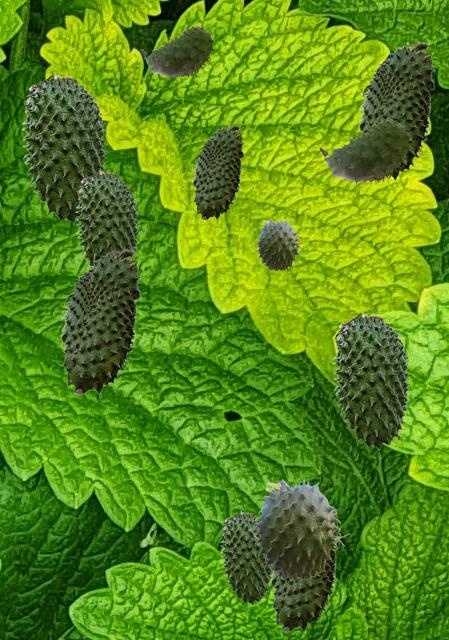guyabano: (21, 72, 107, 223), (60, 249, 140, 394), (332, 311, 410, 449), (358, 42, 434, 180), (248, 478, 349, 580), (270, 505, 339, 631), (75, 169, 139, 265), (319, 119, 411, 185), (220, 510, 271, 604), (192, 125, 243, 219), (140, 26, 214, 79), (253, 218, 304, 270)
